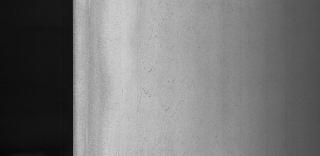silk spot: (136, 10, 198, 148)
